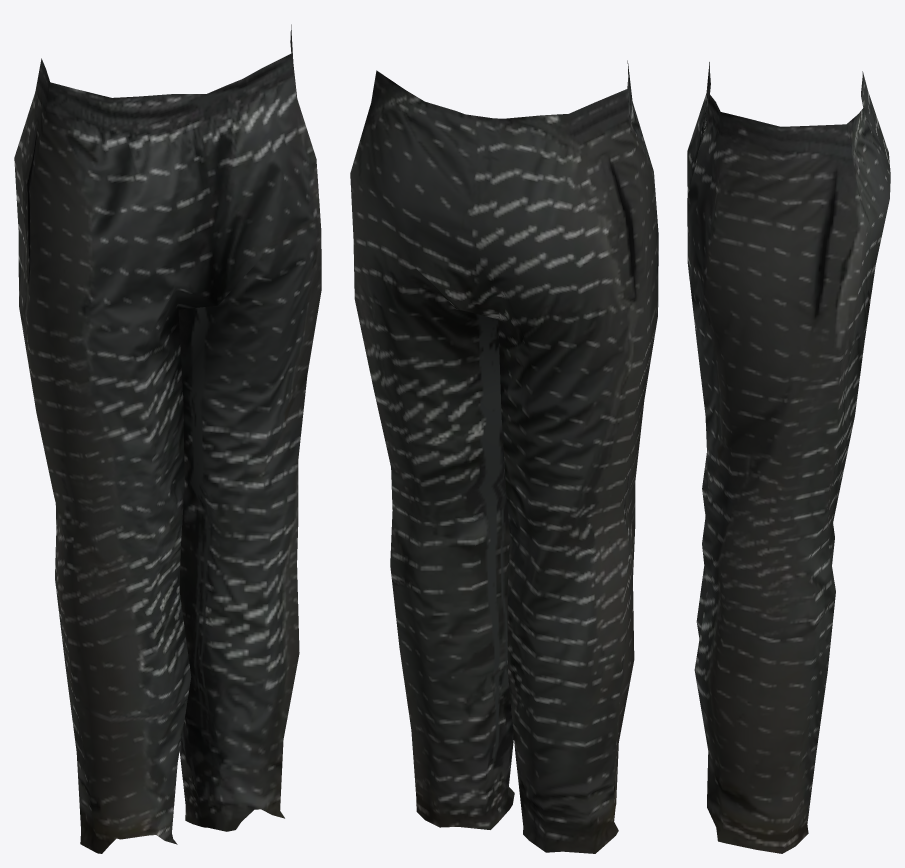
Rendered from 011-shell.glb.
3 views of the same model, side by side, from view 1: azimuth 30°, elevation 25°; view 2: azimuth 150°, elevation 25°; view 3: azimuth 270°, elevation 25° (orthographic). The views are drawn at different scales.
Parts seen in each view (by area): view 1: geometry_0; view 2: geometry_0; view 3: geometry_0.
Part boxes in pixels (x1=…): geometry_0: x1=14, y1=24, x2=321, y2=853; geometry_0: x1=350, y1=60, x2=658, y2=853; geometry_0: x1=687, y1=62, x2=890, y2=853.
Bounding box in the file's own units: 0.3482 × 0.9164 × 0.2277.
1 material, 1 textured.
